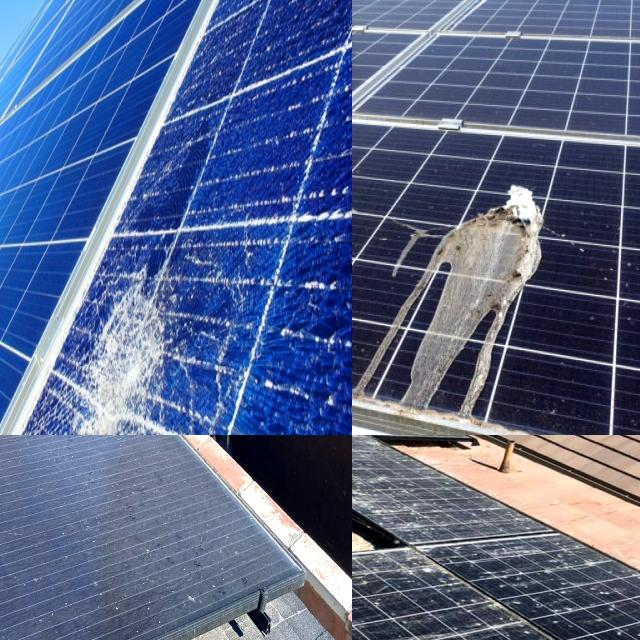bird: (405, 156, 544, 406), (366, 566, 536, 614), (352, 440, 457, 512), (352, 561, 404, 640), (595, 601, 640, 640)
dust: (128, 435, 293, 603), (38, 435, 101, 640), (0, 450, 50, 640), (0, 435, 55, 495), (0, 435, 41, 500), (0, 435, 40, 469), (0, 435, 43, 466)
hotspot: (8, 260, 204, 435)
